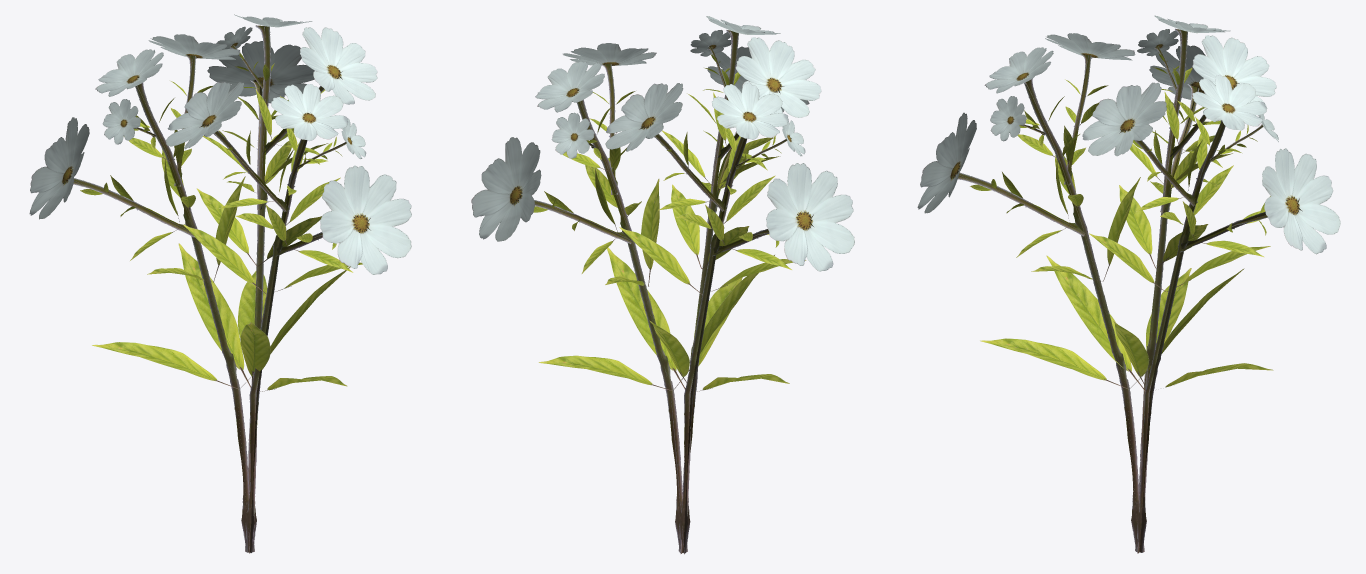
The model's file is WhiteFLower1_2.fbx.
The picture shows the model from 3 angles, left to right: view 1: azimuth 30°, elevation 25°; view 2: azimuth 150°, elevation 25°; view 3: azimuth 270°, elevation 25°; orthographic projection.
Visible parts, largest first — view 1: WhiteFLower1_2; view 2: WhiteFLower1_2; view 3: WhiteFLower1_2.
Boxes of the visible parts, x1=… form: WhiteFLower1_2: x1=29, y1=14, x2=411, y2=553; WhiteFLower1_2: x1=471, y1=16, x2=854, y2=554; WhiteFLower1_2: x1=917, y1=15, x2=1340, y2=553.
Bounding box in the file's own units: 0.2541 × 0.3647 × 0.2941.
